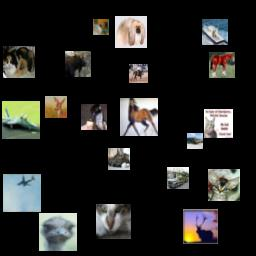airplane: (2, 101, 40, 139), (3, 174, 41, 212)
bird: (39, 213, 77, 251), (81, 104, 107, 130)
cat: (96, 204, 131, 239), (3, 46, 35, 78), (208, 169, 240, 201), (204, 109, 233, 138), (108, 148, 130, 170), (93, 19, 109, 35)
deer: (183, 209, 218, 244), (65, 51, 91, 77), (45, 96, 67, 118)
dog: (115, 16, 147, 48)
ship: (202, 19, 228, 45)
truck: (167, 167, 189, 189), (187, 133, 203, 149)
